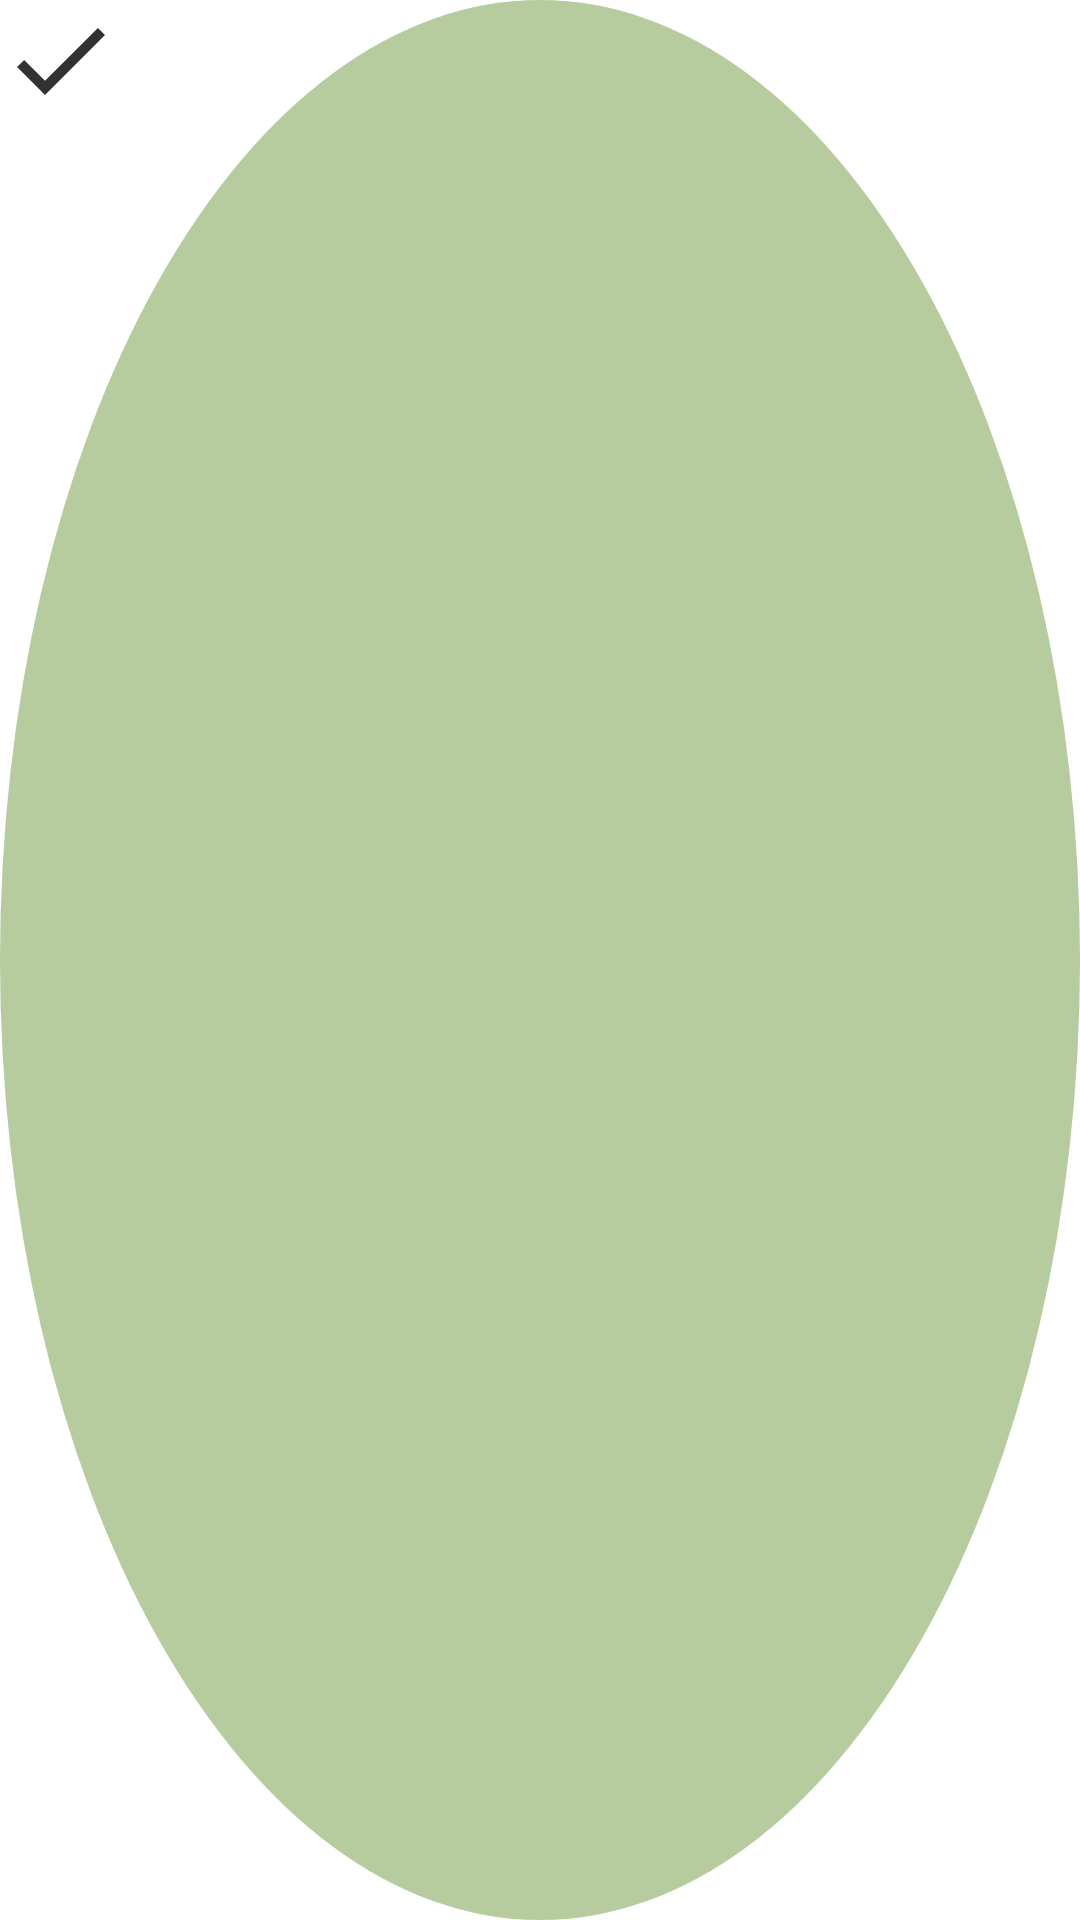

Icons on this 1080 x 1920 Android screen, each with the point to tap as (x=x, y=y):
save button on mood entry panel: (x=61, y=61)
